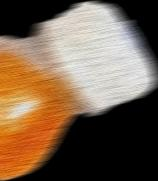royal: (0, 1, 157, 180)
